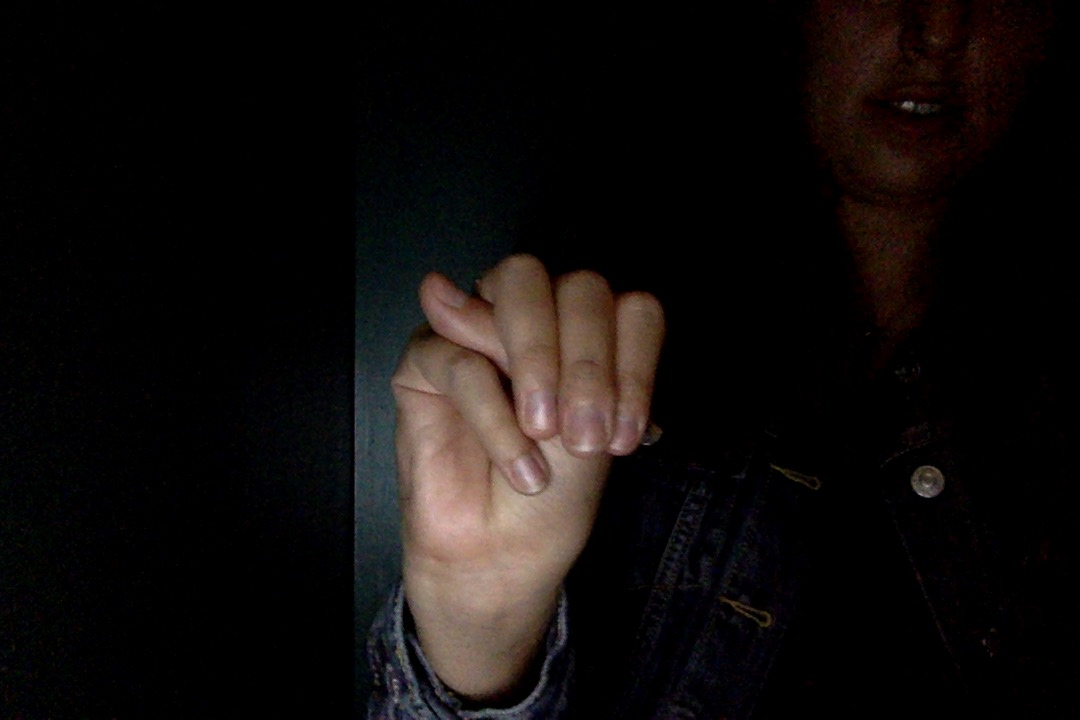m: (384, 231, 668, 720)
